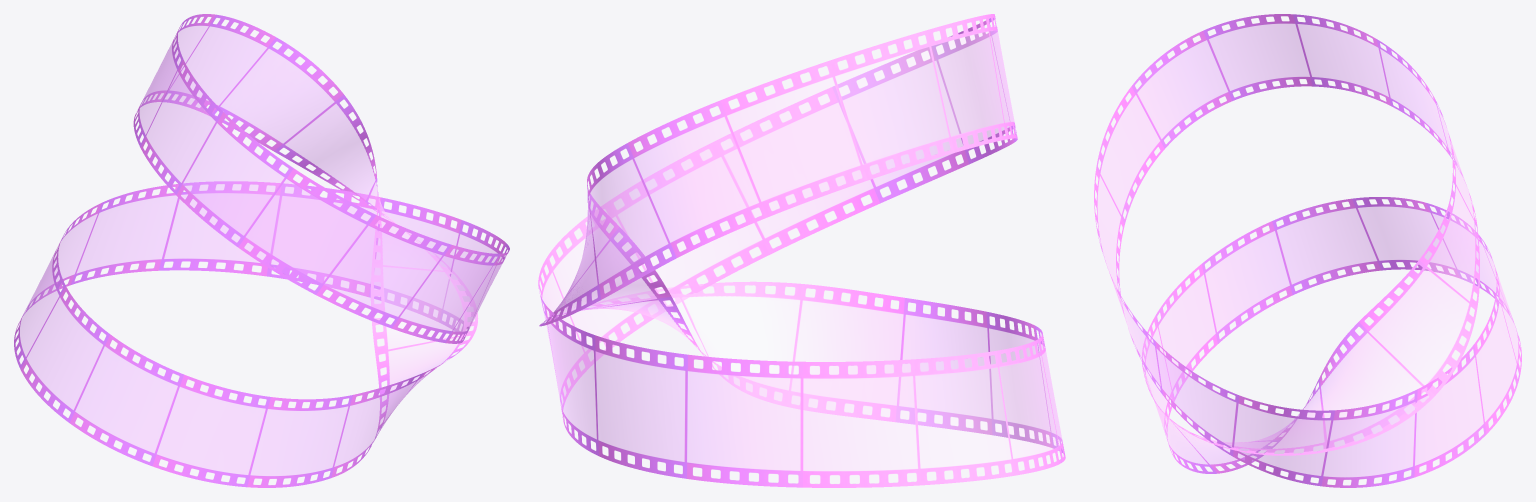
Rendered from 003-mobius-film.glb.
The picture shows the model from 3 angles, left to right: view 1: azimuth 30°, elevation 25°; view 2: azimuth 150°, elevation 25°; view 3: azimuth 270°, elevation 25°; orthographic projection. The views are drawn at different scales.
Parts seen in each view (by area): view 1: film_strip; view 2: film_strip; view 3: film_strip.
Part boxes in pixels (left/top/right/bottom): film_strip: left=14, top=14, right=509, bottom=487; film_strip: left=538, top=14, right=1065, bottom=487; film_strip: left=1094, top=14, right=1521, bottom=487.
Bounding box in the file's own units: 1.94 × 1.73 × 1.69.
Materials: 1 (1 with a texture image).
